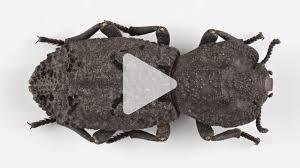Insects: (25, 17, 283, 150)
